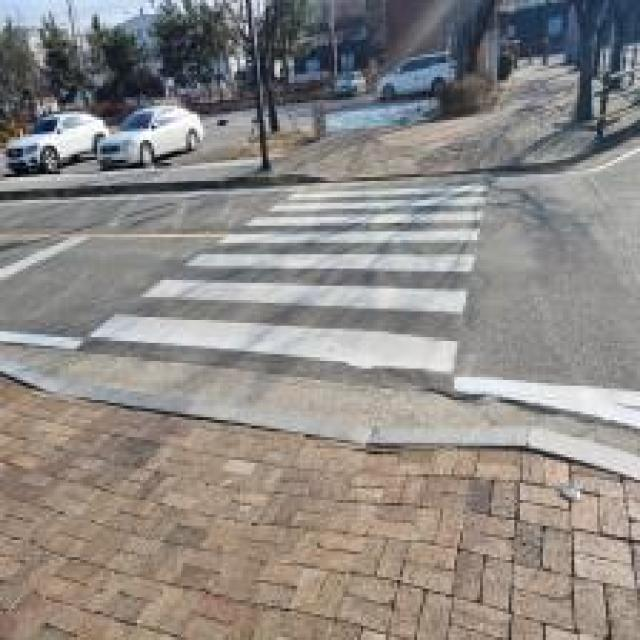walk-crossing: (126, 179, 492, 406)
